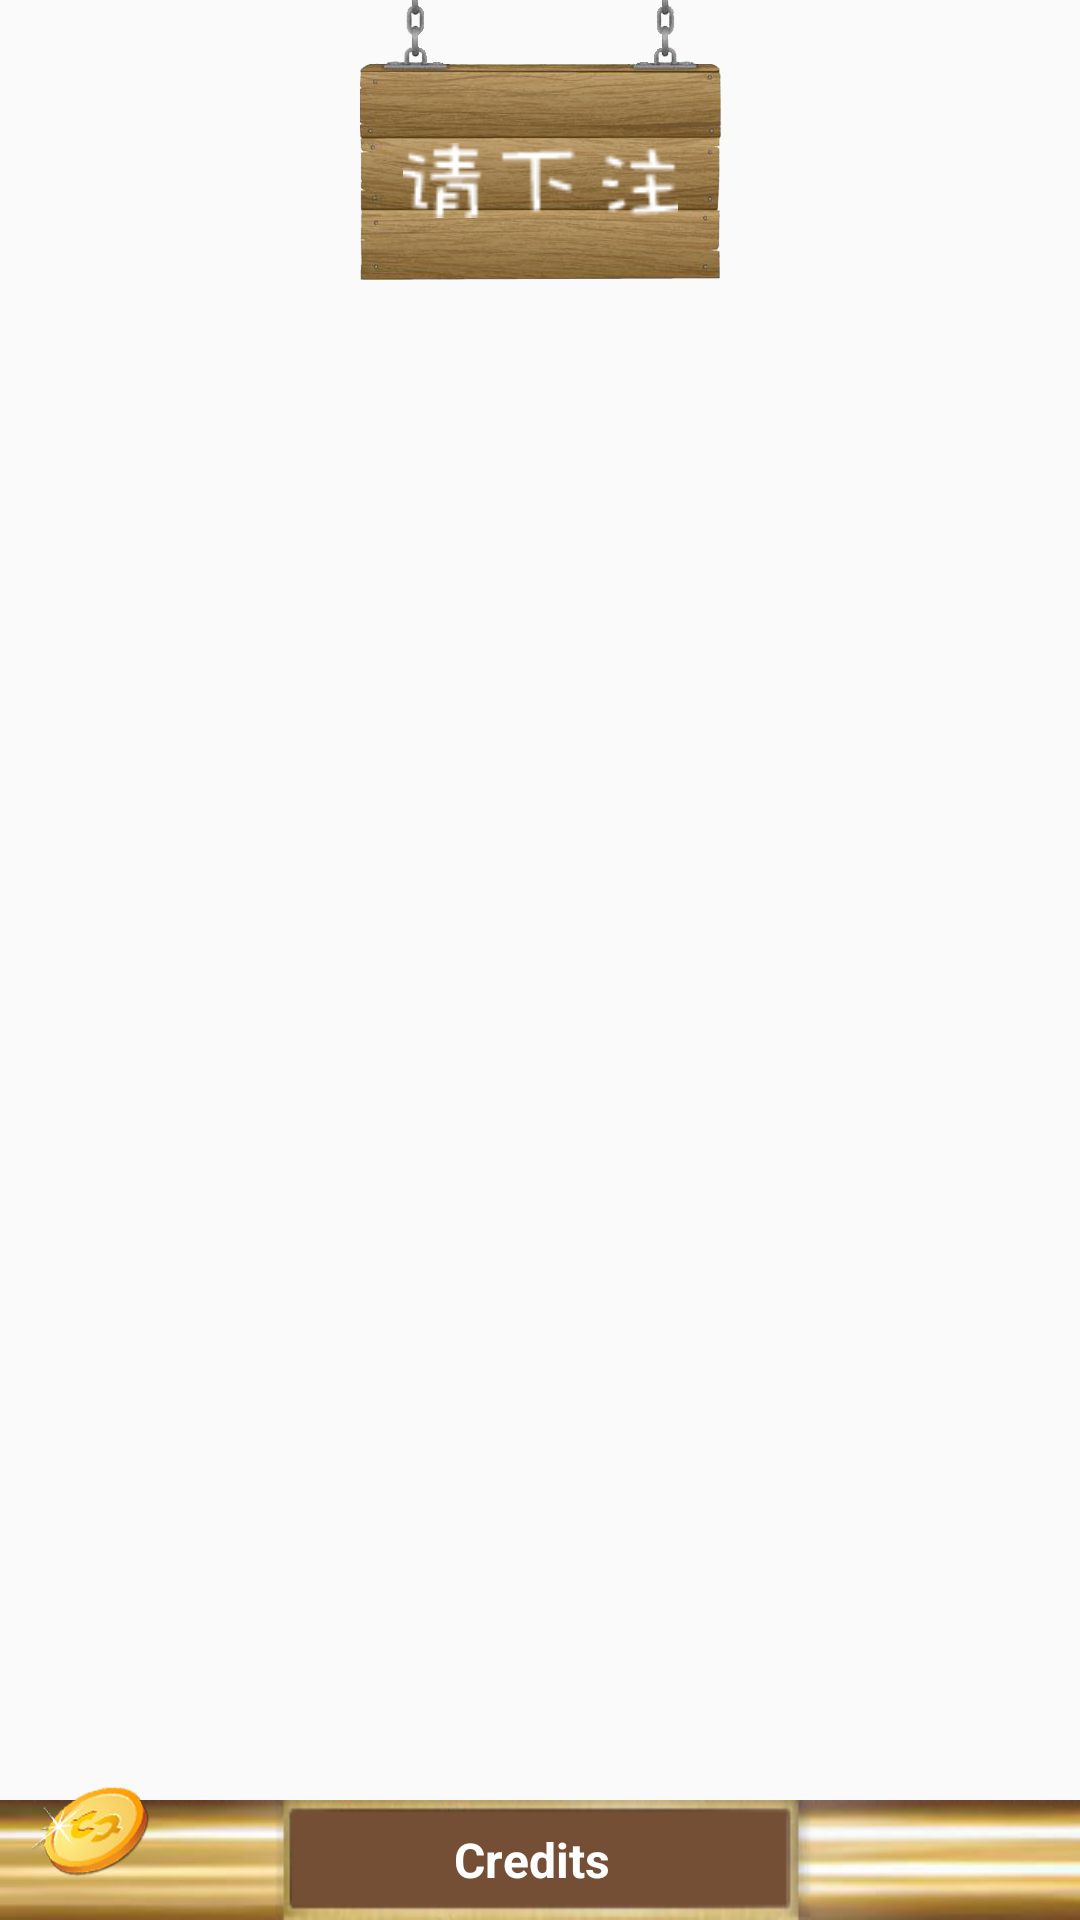

Where to tap for icons on this 1080*1920 app screen, as (x,y):
coin: (90,1830)
